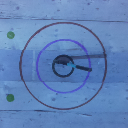Axe Tip: (59, 59, 71, 62)
